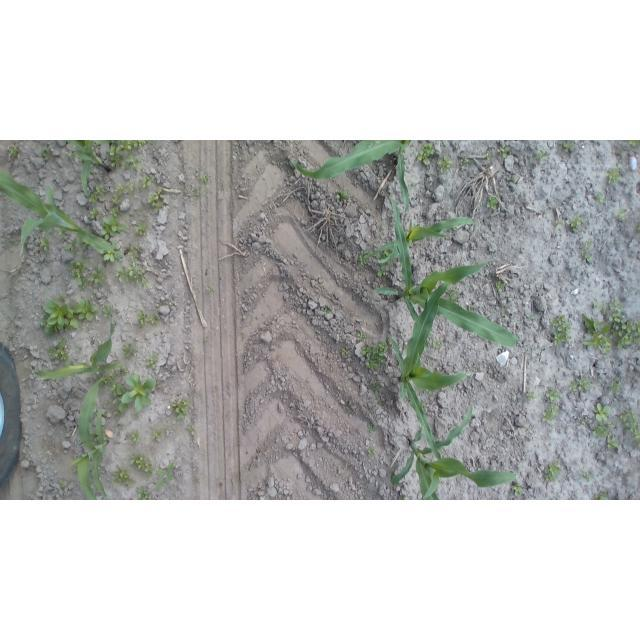Maize: (375, 197, 518, 348), (384, 282, 473, 460), (390, 405, 524, 500), (0, 170, 122, 262), (290, 140, 411, 216), (30, 306, 123, 381), (68, 376, 111, 500), (368, 216, 474, 265), (67, 140, 115, 196)
Weeds: (42, 297, 99, 335), (108, 141, 155, 172), (119, 375, 156, 412), (581, 314, 612, 354), (609, 312, 640, 349), (115, 257, 149, 290), (360, 341, 389, 371), (620, 407, 640, 445), (592, 422, 618, 449), (551, 314, 572, 346), (100, 216, 126, 241), (69, 257, 89, 288), (155, 461, 174, 491), (47, 338, 69, 362), (130, 453, 154, 475), (111, 467, 135, 487), (417, 142, 436, 167), (146, 187, 164, 213), (170, 397, 189, 421), (543, 460, 562, 481), (541, 404, 560, 424), (593, 402, 612, 421), (570, 377, 592, 392), (606, 167, 623, 186), (111, 382, 126, 403), (439, 154, 454, 175), (569, 214, 585, 233), (145, 351, 160, 370), (486, 192, 501, 210), (90, 265, 104, 284), (63, 237, 78, 253), (123, 344, 138, 360), (357, 249, 372, 265), (535, 150, 550, 165), (39, 144, 53, 160), (135, 486, 151, 500), (546, 389, 563, 402), (136, 309, 148, 327), (342, 400, 355, 416), (447, 289, 461, 303), (497, 144, 511, 158), (7, 144, 20, 159), (39, 236, 52, 251), (335, 188, 350, 201), (117, 183, 136, 193), (135, 221, 148, 235), (608, 382, 620, 397), (580, 250, 593, 263), (130, 430, 143, 443), (511, 482, 523, 496), (431, 339, 443, 353), (103, 303, 114, 318), (560, 141, 573, 153), (141, 175, 152, 189), (88, 208, 99, 221), (152, 429, 165, 440), (372, 382, 385, 393), (609, 300, 621, 311), (367, 421, 378, 433), (187, 188, 203, 196), (128, 247, 142, 256), (526, 390, 536, 402), (595, 492, 610, 500), (95, 184, 105, 196), (341, 345, 351, 357), (109, 209, 122, 218), (88, 193, 99, 203), (104, 251, 114, 262), (149, 314, 159, 325), (616, 210, 626, 221), (582, 472, 594, 481), (188, 424, 196, 437), (119, 365, 129, 375), (496, 281, 505, 292), (625, 141, 639, 148), (592, 300, 604, 308), (112, 193, 121, 203), (378, 266, 387, 276), (526, 314, 537, 322), (67, 149, 75, 160), (200, 173, 208, 184), (584, 239, 592, 250), (483, 151, 491, 161), (596, 192, 604, 202), (556, 217, 564, 227), (498, 314, 509, 321), (58, 228, 67, 236), (205, 286, 213, 295), (57, 292, 66, 300), (58, 480, 67, 488), (357, 331, 365, 340), (323, 306, 331, 315), (129, 413, 139, 420), (368, 448, 375, 458), (376, 398, 384, 406), (460, 157, 468, 165), (381, 252, 390, 259), (75, 345, 83, 352), (115, 409, 122, 416), (603, 306, 609, 314), (108, 371, 114, 379), (423, 389, 435, 393), (421, 403, 427, 411), (581, 419, 588, 425), (101, 399, 108, 405), (616, 150, 623, 156), (161, 299, 168, 305), (100, 380, 108, 385), (636, 225, 640, 235), (426, 358, 431, 366), (241, 333, 246, 340), (468, 304, 474, 309), (204, 336, 209, 342), (193, 478, 199, 483), (346, 461, 351, 467), (521, 426, 528, 430), (511, 177, 516, 181)
